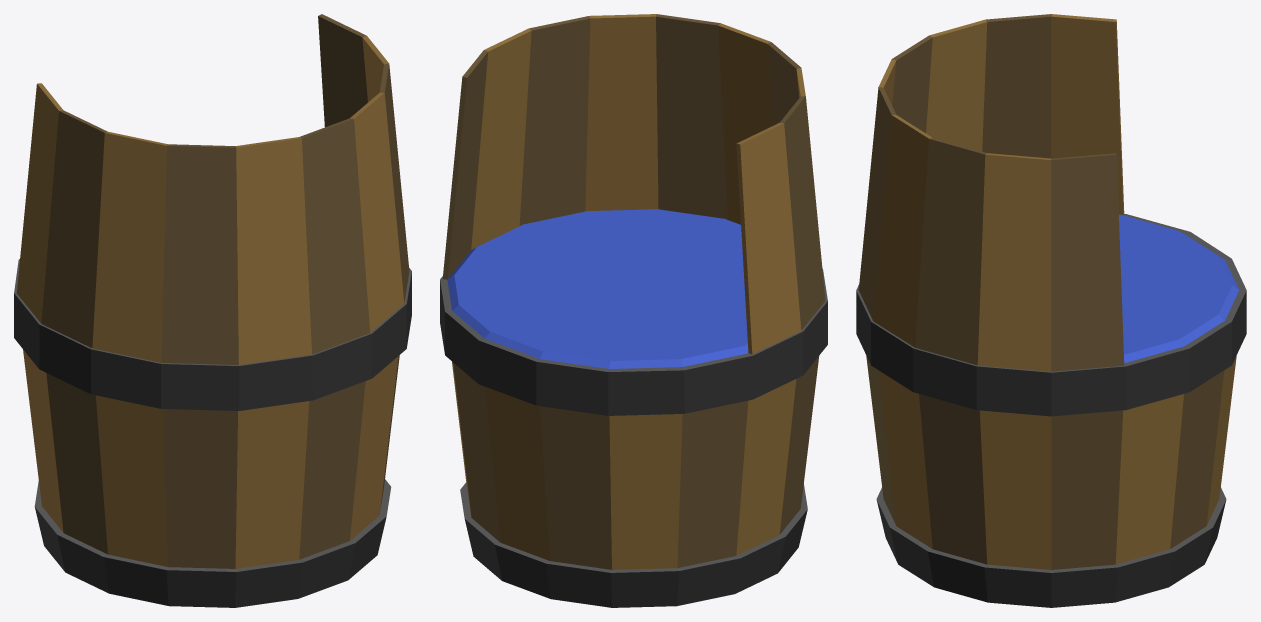
The model's file is sm_chair_3.fbx.
3 renders of one model, left to right at view 1: azimuth 30°, elevation 25°; view 2: azimuth 150°, elevation 25°; view 3: azimuth 270°, elevation 25°, orthographic. The views are drawn at different scales.
Parts seen in each view (by area): view 1: sm_chair_3; view 2: sm_chair_3; view 3: sm_chair_3.
Boxes of the visible parts, x1,y1,x2,y2 form: sm_chair_3: (14, 14, 411, 607); sm_chair_3: (440, 14, 827, 607); sm_chair_3: (856, 14, 1246, 607).
Bounding box in the file's own units: 36.78 × 46.85 × 36.78.
